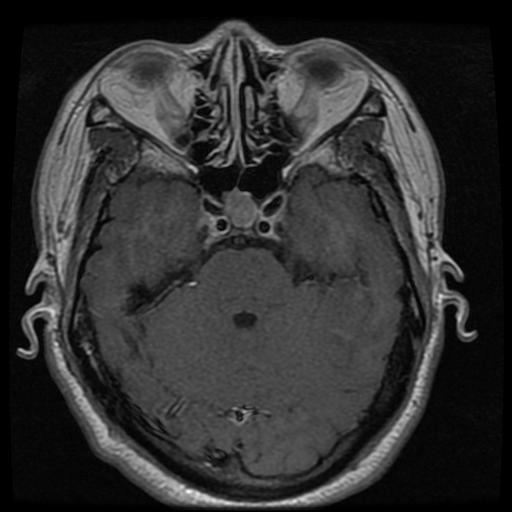Tumour-Pituitary: (190, 191, 293, 243)
